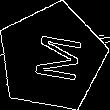M_W: (23, 30, 81, 85)
